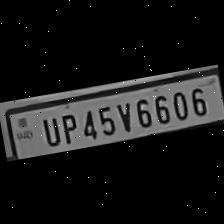0: (168, 86, 190, 121)
4: (75, 103, 98, 140)
5: (91, 99, 117, 138)
6: (130, 92, 154, 130), (184, 82, 210, 116), (148, 90, 172, 126)
P: (54, 108, 80, 144)
U: (36, 111, 62, 147)
V: (111, 96, 134, 134)
